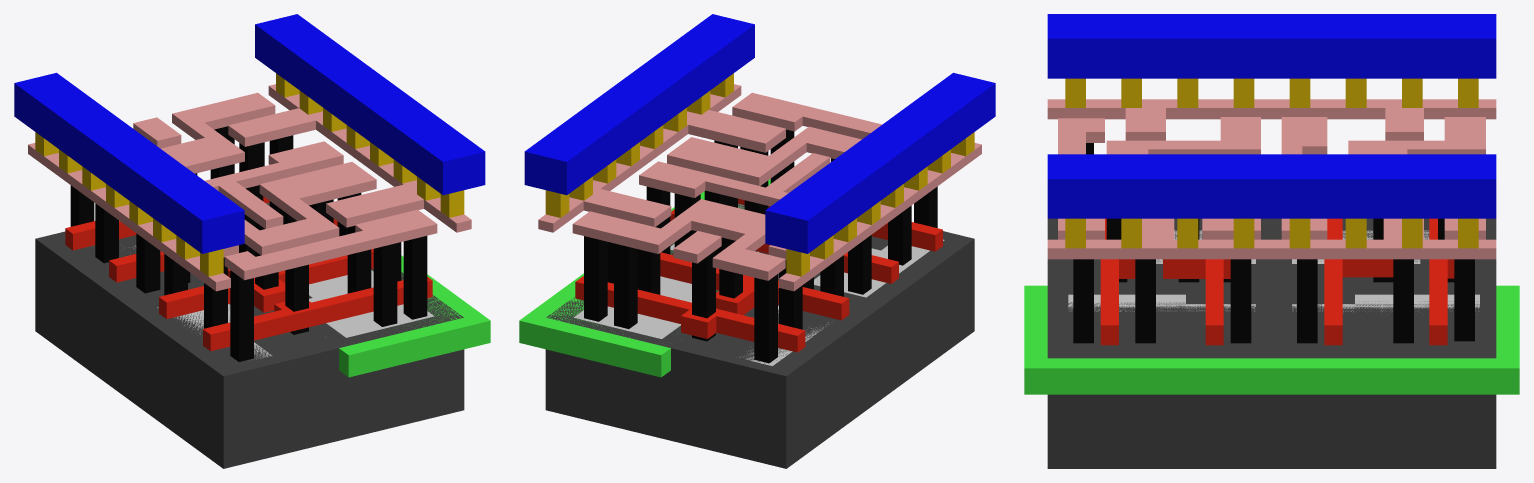
File: sky130_fd_sc_hd__clkdlybuf4s15_1.obj
3 views of the same model, side by side, from view 1: azimuth 30°, elevation 25°; view 2: azimuth 150°, elevation 25°; view 3: azimuth 270°, elevation 25° (orthographic). The views are drawn at different scales.
Visible parts, largest first — view 1: subs, metal1, li, licon, poly, nwell, mcon, tap, diff; view 2: subs, metal1, li, licon, poly, nwell, mcon, tap, diff; view 3: subs, metal1, li, nwell, licon, mcon, poly, tap.
Boxes of the visible parts, x1,y1,x2,y2 form: subs: [35, 202, 464, 468]; metal1: [14, 14, 485, 253]; li: [28, 84, 471, 291]; licon: [70, 126, 427, 361]; poly: [65, 196, 432, 351]; nwell: [339, 255, 490, 377]; mcon: [35, 73, 464, 276]; tap: [309, 270, 434, 337]; diff: [133, 245, 272, 359]; subs: [545, 203, 974, 468]; metal1: [524, 14, 995, 253]; li: [538, 84, 981, 291]; licon: [584, 129, 937, 363]; poly: [575, 198, 942, 352]; nwell: [519, 179, 770, 377]; mcon: [545, 73, 974, 276]; tap: [574, 204, 758, 338]; diff: [740, 239, 944, 365]; subs: [1047, 218, 1496, 468]; metal1: [1047, 14, 1496, 218]; li: [1047, 99, 1496, 259]; nwell: [1024, 285, 1519, 394]; licon: [1073, 143, 1474, 343]; mcon: [1065, 78, 1478, 248]; poly: [1100, 218, 1454, 345]; tap: [1068, 294, 1479, 314].
Size of the model in its own units: 3.2 by 2.74 by 4.06.
